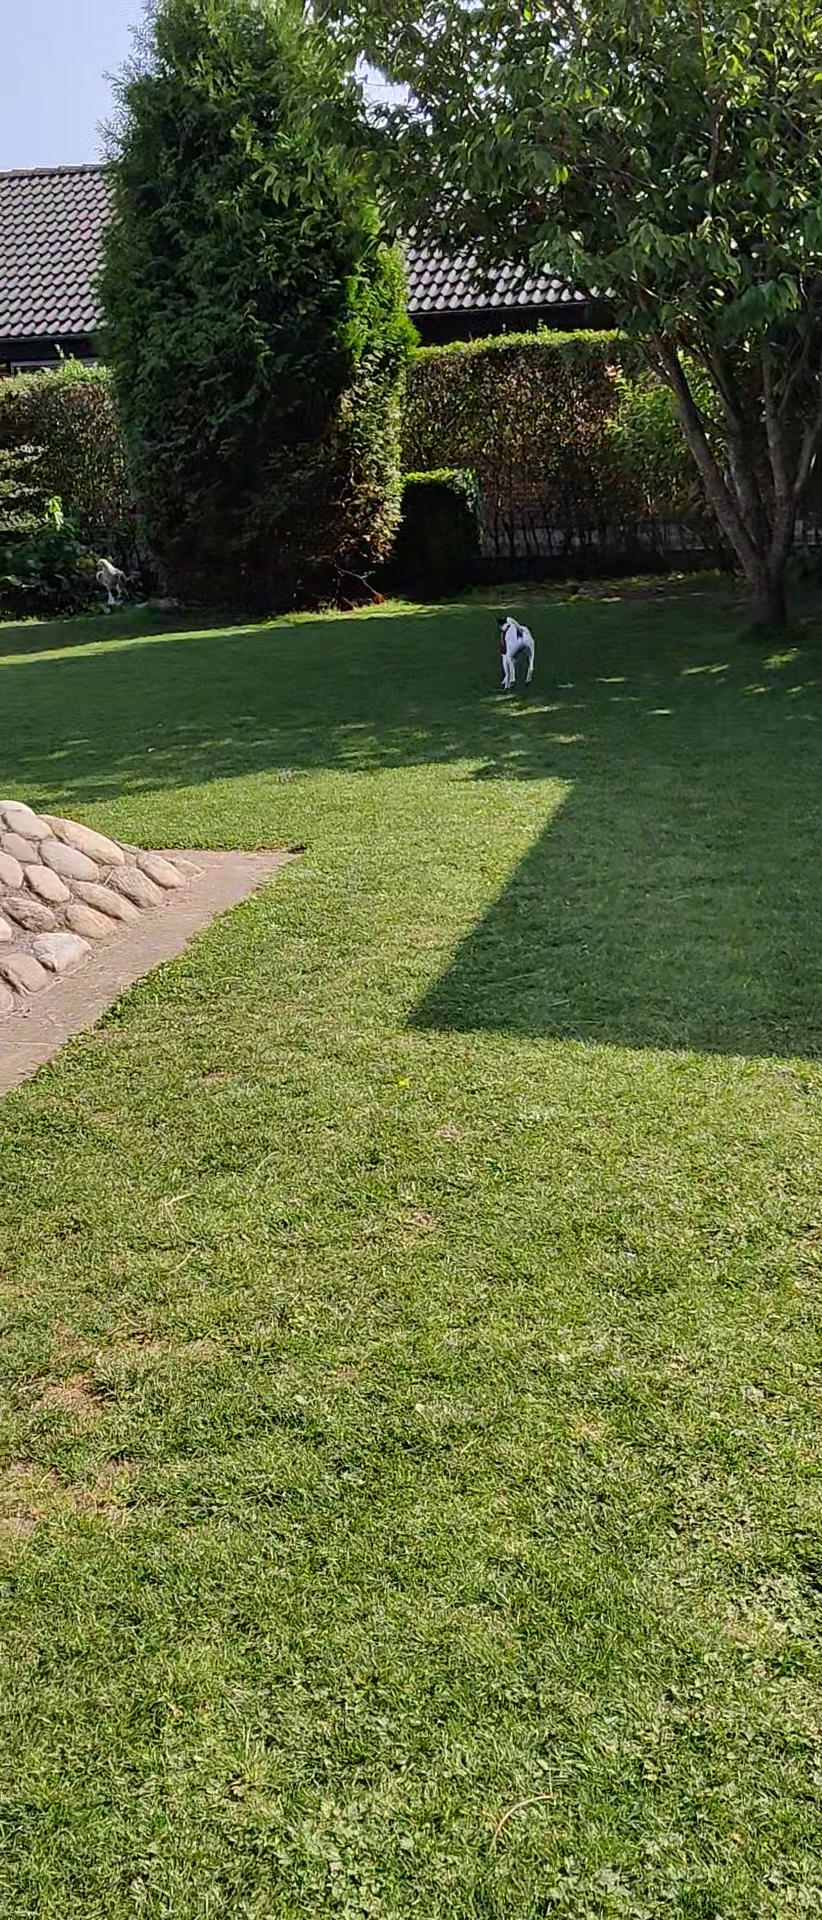Dog: (488, 610, 541, 693)
